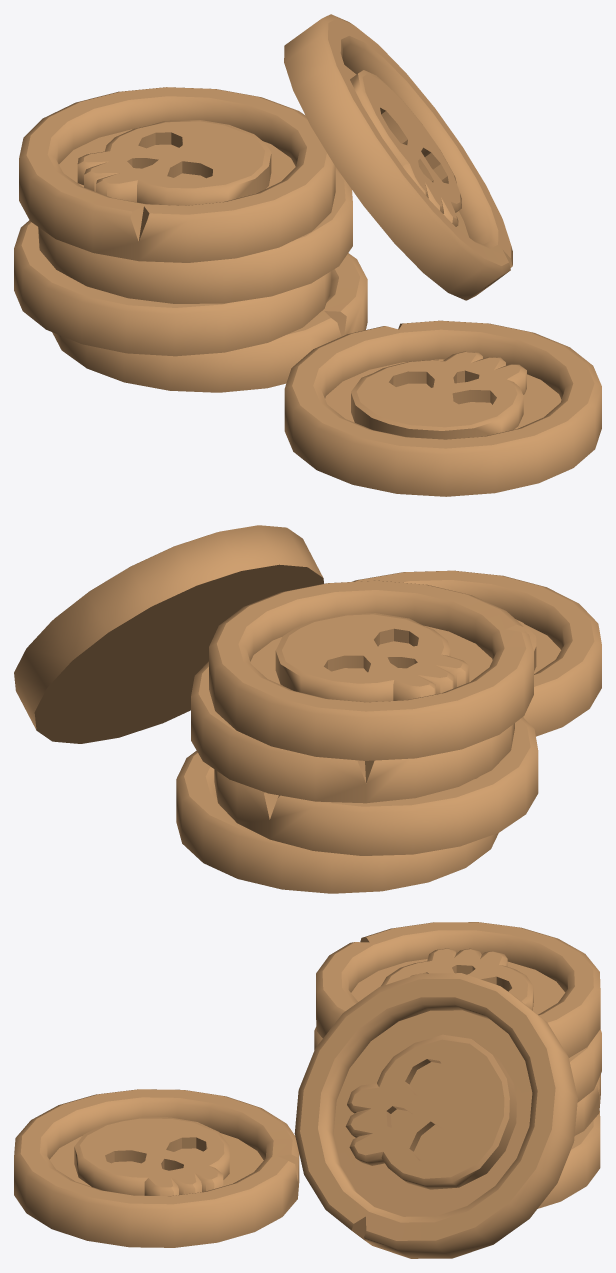
Rendered from low-poly_skull_coins.glb.
The picture shows the model from 3 angles, top to bottom: view 1: azimuth 30°, elevation 25°; view 2: azimuth 150°, elevation 25°; view 3: azimuth 270°, elevation 25°; orthographic projection. The views are drawn at different scales.
Visible parts, largest first — view 1: Cylinder.004_7, Cylinder.003_6, Cylinder.005_8, Cylinder.001_4, Cylinder.002_5, Cylinder_2; view 2: Cylinder.003_6, Cylinder.005_8, Cylinder.001_4, Cylinder.002_5, Cylinder_2, Cylinder.004_7; view 3: Cylinder.005_8, Cylinder.004_7, Cylinder.003_6, Cylinder_2, Cylinder.002_5, Cylinder.001_4.
Part boxes in pixels (x1,y1,x2,y2): Cylinder.004_7: (284,320,601,496); Cylinder.003_6: (19,87,335,262); Cylinder.005_8: (284,14,512,300); Cylinder.001_4: (14,220,331,356); Cylinder.002_5: (38,167,352,303); Cylinder_2: (52,253,367,392); Cylinder.003_6: (209,580,533,760); Cylinder.005_8: (14,525,323,743); Cylinder.001_4: (214,717,538,855); Cylinder.002_5: (191,661,514,803); Cylinder_2: (176,750,498,893); Cylinder.004_7: (352,570,601,736); Cylinder.005_8: (294,973,577,1258); Cylinder.004_7: (14,1089,299,1247); Cylinder.003_6: (316,922,600,1057); Cylinder_2: (538,1111,600,1208); Cylinder.002_5: (314,1027,601,1102); Cylinder.001_4: (574,1074,600,1135).
Size of the model in its own units: 0.1437 by 0.0776 by 0.175.
